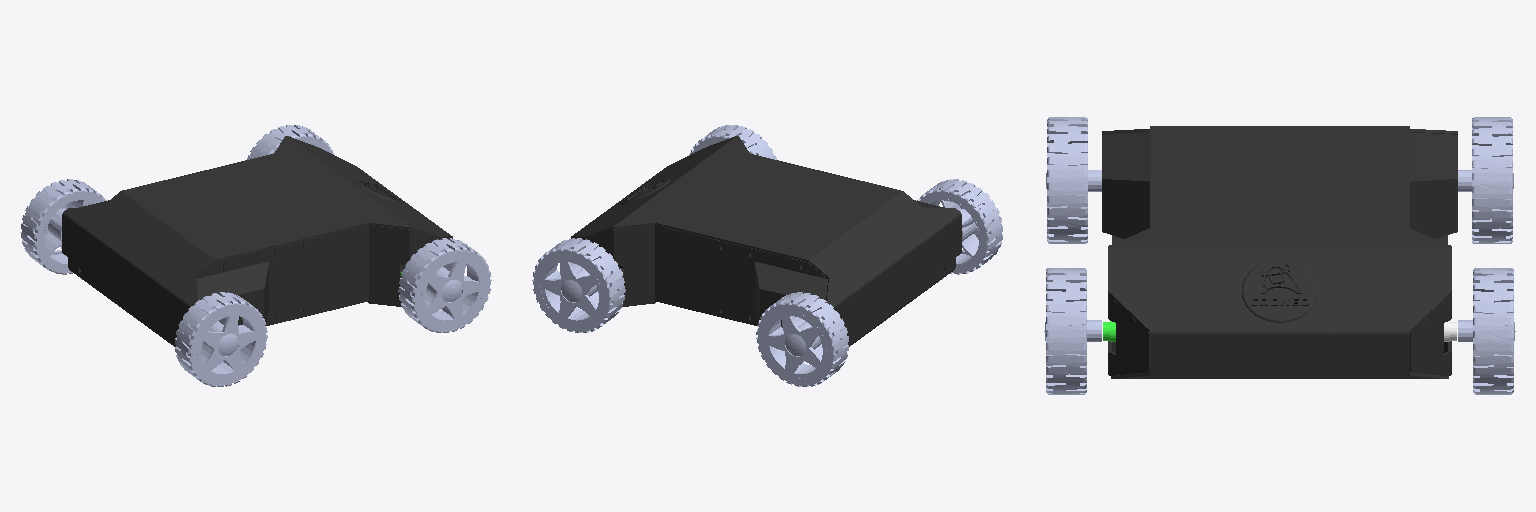
URDF robot description (cooneo_mini):
<?xml version="1.0" encoding="utf-8"?>
<!-- This URDF was automatically created by SolidWorks to URDF Exporter! Originally created by [author] ([email redacted]) 
     Commit Version: 1.5.1-0-g916b5db  Build Version: 1.5.7152.31018
     For more information, please see http://wiki.ros.org/sw_urdf_exporter -->
<robot
  name="cooneo_mini">
  <link
    name="base_link">
    <inertial>
      <origin
        xyz="0.011165 -1.5969E-05 0.059651"
        rpy="0 0 0" />
      <mass
        value="1.9356" />
      <inertia
        ixx="0.012455"
        ixy="-3.2416E-08"
        ixz="0.0014124"
        iyy="0.020757"
        iyz="2.4025E-07"
        izz="0.029211" />
    </inertial>
    <visual>
      <origin
        xyz="0 0 0"
        rpy="0 0 0" />
      <geometry>
        <mesh
          filename="package://cooneo_mini/meshes/base_link.STL" />
      </geometry>
      <material
        name="">
        <color
          rgba="0.25098 0.25098 0.25098 1" />
      </material>
    </visual>
    <collision>
      <origin
        xyz="0 0 0"
        rpy="0 0 0" />
      <geometry>
        <mesh
          filename="package://cooneo_mini/meshes/base_link.STL" />
      </geometry>
    </collision>
  </link>
  <link
    name="rear_wheel_link">
    <inertial>
      <origin
        xyz="-8.88178419700125E-16 0 -0.00112500000000004"
        rpy="0 0 0" />
      <mass
        value="5.65486677646169E-05" />
      <inertia
        ixx="1.32005796313028E-10"
        ixy="-1.93870456067114E-27"
        ixz="2.07308223726184E-26"
        iyy="1.32005796313028E-10"
        iyz="-7.55046416366814E-25"
        izz="2.03575203952622E-10" />
    </inertial>
    <visual>
      <origin
        xyz="0 0 0"
        rpy="0 0 0" />
      <geometry>
        <mesh
          filename="package://cooneo_mini/meshes/rear_wheel_link.STL" />
      </geometry>
      <material
        name="">
        <color
          rgba="0.274509803921569 1 0.247058823529412 1" />
      </material>
    </visual>
    <collision>
      <origin
        xyz="0 0 0"
        rpy="0 0 0" />
      <geometry>
        <mesh
          filename="package://cooneo_mini/meshes/rear_wheel_link.STL" />
      </geometry>
    </collision>
  </link>
  <joint
    name="rear_wheel_joint"
    type="continuous">
    <origin
      xyz="-0.1815 0 0.04"
      rpy="0 0 0" />
    <parent
      link="base_link" />
    <child
      link="rear_wheel_link" />
    <axis
      xyz="0 1 0" />
  </joint>
  <link
    name="left_rear_link">
    <inertial>
      <origin
        xyz="7.85229659072684E-11 -0.019676248885477 -8.4279616618943E-10"
        rpy="0 0 0" />
      <mass
        value="0.295561829050383" />
      <inertia
        ixx="0.000374087423652296"
        ixy="2.1933518923704E-13"
        ixz="-5.50404449693522E-12"
        iyy="0.000661017199375588"
        iyz="-5.10037069618075E-14"
        izz="0.000374087441459992" />
    </inertial>
    <visual>
      <origin
        xyz="0 0 0"
        rpy="0 0 0" />
      <geometry>
        <mesh
          filename="package://cooneo_mini/meshes/left_rear_link.STL" />
      </geometry>
      <material
        name="">
        <color
          rgba="0.792156862745098 0.819607843137255 0.933333333333333 1" />
      </material>
    </visual>
    <collision>
      <origin
        xyz="0 0 0"
        rpy="0 0 0" />
      <geometry>
        <mesh
          filename="package://cooneo_mini/meshes/left_rear_link.STL" />
      </geometry>
    </collision>
  </link>
  <joint
    name="left_rear_joint"
    type="continuous">
    <origin
      xyz="-0.1815 0.22854 0.04"
      rpy="0 0 0" />
    <parent
      link="base_link" />
    <child
      link="left_rear_link" />
    <axis
      xyz="0 1 0" />
    <limit
      lower="-3.14"
      upper="3.14"
      effort="0"
      velocity="0" />
  </joint>
  <link
    name="right_rear_link">
    <inertial>
      <origin
        xyz="7.85229659072684E-11 0.0196762603524332 -8.57704240964097E-10"
        rpy="0 0 0" />
      <mass
        value="0.295561829050388" />
      <inertia
        ixx="0.000374087423652305"
        ixy="-2.1933774738079E-13"
        ixz="5.50404221941799E-12"
        iyy="0.000661017199375599"
        iyz="-5.10080277849736E-14"
        izz="0.000374087441459994" />
    </inertial>
    <visual>
      <origin
        xyz="0 0 0"
        rpy="0 0 0" />
      <geometry>
        <mesh
          filename="package://cooneo_mini/meshes/right_rear_link.STL" />
      </geometry>
      <material
        name="">
        <color
          rgba="0.792156862745098 0.819607843137255 0.933333333333333 1" />
      </material>
    </visual>
    <collision>
      <origin
        xyz="0 0 0"
        rpy="0 0 0" />
      <geometry>
        <mesh
          filename="package://cooneo_mini/meshes/right_rear_link.STL" />
      </geometry>
    </collision>
  </link>
  <joint
    name="right_rear_joint"
    type="continuous">
    <origin
      xyz="-0.1815 -0.22854 0.04"
      rpy="0 0 0" />
    <parent
      link="base_link" />
    <child
      link="right_rear_link" />
    <axis
      xyz="0 1 0" />
    <limit
      lower="-3.14"
      upper="3.14"
      effort="0"
      velocity="0" />
  </joint>
  <link
    name="front_steer_link">
    <inertial>
      <origin
        xyz="-1.77635683940025E-14 -5.46727774164424E-10 -0.00112485700737985"
        rpy="0 0 0" />
      <mass
        value="5.65486677646163E-05" />
      <inertia
        ixx="1.32005796313026E-10"
        ixy="1.16322273640277E-26"
        ixz="1.20446157864484E-28"
        iyy="1.32005796313026E-10"
        iyz="-8.66481261175625E-27"
        izz="2.03575203952619E-10" />
    </inertial>
    <visual>
      <origin
        xyz="0 0 0"
        rpy="0 0 0" />
      <geometry>
        <mesh
          filename="package://cooneo_mini/meshes/front_steer_link.STL" />
      </geometry>
      <material
        name="">
        <color
          rgba="0.274509803921569 1 0.247058823529412 1" />
      </material>
    </visual>
    <collision>
      <origin
        xyz="0 0 0"
        rpy="0 0 0" />
      <geometry>
        <mesh
          filename="package://cooneo_mini/meshes/front_steer_link.STL" />
      </geometry>
    </collision>
  </link>
  <joint
    name="front_steer_joint"
    type="revolute">
    <origin
      xyz="0.17288 0 -0.0037656"
      rpy="0 0 0" />
    <parent
      link="base_link" />
    <child
      link="front_steer_link" />
    <axis
      xyz="0 0 1" />
    <limit
      lower="0"
      upper="0"
      effort="0"
      velocity="0" />
  </joint>
  <link
    name="front_steer_right_link">
    <inertial>
      <origin
        xyz="-0.00287984917574224 -0.00386608727320614 -3.21341868447789E-07"
        rpy="0 0 0" />
      <mass
        value="0.00404228912885315" />
      <inertia
        ixx="3.86012893948635E-07"
        ixy="1.06107136042316E-07"
        ixz="3.7998167490122E-12"
        iyy="5.70282019991062E-07"
        iyz="-5.11429251072708E-13"
        izz="5.85222511682941E-07" />
    </inertial>
    <visual>
      <origin
        xyz="0 0 0"
        rpy="0 0 0" />
      <geometry>
        <mesh
          filename="package://cooneo_mini/meshes/front_steer_right_link.STL" />
      </geometry>
      <material
        name="">
        <color
          rgba="0.309803921568627 1 0.333333333333333 1" />
      </material>
    </visual>
    <collision>
      <origin
        xyz="0 0 0"
        rpy="0 0 0" />
      <geometry>
        <mesh
          filename="package://cooneo_mini/meshes/front_steer_right_link.STL" />
      </geometry>
    </collision>
  </link>
  <joint
    name="front_steer_right_joint"
    type="revolute">
    <origin
      xyz="0.16696 -0.15584 0.039625"
      rpy="0 0 0" />
    <parent
      link="base_link" />
    <child
      link="front_steer_right_link" />
    <axis
      xyz="0 0 -1" />
    <limit
      lower="0"
      upper="0"
      effort="0"
      velocity="0" />
  </joint>
  <link
    name="front_right_wheel_link">
    <inertial>
      <origin
        xyz="9.45795743945155E-08 -0.000295273236284865 1.87538969909085E-08"
        rpy="0 0 0" />
      <mass
        value="0.296315811300357" />
      <inertia
        ixx="0.000374692013709373"
        ixy="-9.17172260378054E-08"
        ixz="-2.43188315834101E-12"
        iyy="0.000661029987747127"
        iyz="1.97367409117038E-13"
        izz="0.000374691963930339" />
    </inertial>
    <visual>
      <origin
        xyz="0 0 0"
        rpy="0 0 0" />
      <geometry>
        <mesh
          filename="package://cooneo_mini/meshes/front_right_wheel_link.STL" />
      </geometry>
      <material
        name="">
        <color
          rgba="0.792156862745098 0.819607843137255 0.933333333333333 1" />
      </material>
    </visual>
    <collision>
      <origin
        xyz="0 0 0"
        rpy="0 0 0" />
      <geometry>
        <mesh
          filename="package://cooneo_mini/meshes/front_right_wheel_link.STL" />
      </geometry>
    </collision>
  </link>
  <joint
    name="front_right_wheel_joint"
    type="continuous">
    <origin
      xyz="0.000561692366284561 -0.0539588411844538 0"
      rpy="0 0 0" />
    <parent
      link="front_steer_right_link" />
    <child
      link="front_right_wheel_link" />
    <axis
      xyz="-0.000320310780620463 0.999999948700501 0" />
  </joint>
  <link
    name="front_steer_left_link">
    <inertial>
      <origin
        xyz="0 0 0"
        rpy="0 0 0" />
      <mass
        value="0" />
      <inertia
        ixx="0"
        ixy="0"
        ixz="0"
        iyy="0"
        iyz="0"
        izz="0" />
    </inertial>
    <visual>
      <origin
        xyz="0 0 0"
        rpy="0 0 0" />
      <geometry>
        <mesh
          filename="package://cooneo_mini/meshes/front_steer_left_link.STL" />
      </geometry>
      <material
        name="">
        <color
          rgba="1 1 1 1" />
      </material>
    </visual>
    <collision>
      <origin
        xyz="0 0 0"
        rpy="0 0 0" />
      <geometry>
        <mesh
          filename="package://cooneo_mini/meshes/front_steer_left_link.STL" />
      </geometry>
    </collision>
  </link>
  <joint
    name="front_steer_left_joint"
    type="revolute">
    <origin
      xyz="0.166955591258992 0.155840982540987 0.039624698003177"
      rpy="0 0 0" />
    <parent
      link="base_link" />
    <child
      link="front_steer_left_link" />
    <axis
      xyz="0 0 -1" />
    <limit
      lower="0"
      upper="0"
      effort="0"
      velocity="0" />
  </joint>
  <link
    name="front_left_wheel_link">
    <inertial>
      <origin
        xyz="-3.99413835339146E-11 0.000295274254397127 -5.88863402484208E-11"
        rpy="0 0 0" />
      <mass
        value="0.296315811293939" />
      <inertia
        ixx="0.000374691978511198"
        ixy="-1.84494369513925E-13"
        ixz="-9.50757166279945E-12"
        iyy="0.000661030017093965"
        iyz="-1.17866539930504E-13"
        izz="0.000374691969713973" />
    </inertial>
    <visual>
      <origin
        xyz="0 0 0"
        rpy="0 0 0" />
      <geometry>
        <mesh
          filename="package://cooneo_mini/meshes/front_left_wheel_link.STL" />
      </geometry>
      <material
        name="">
        <color
          rgba="0.792156862745098 0.819607843137255 0.933333333333333 1" />
      </material>
    </visual>
    <collision>
      <origin
        xyz="0 0 0"
        rpy="0 0 0" />
      <geometry>
        <mesh
          filename="package://cooneo_mini/meshes/front_left_wheel_link.STL" />
      </geometry>
    </collision>
  </link>
  <joint
    name="front_left_wheel_joint"
    type="continuous">
    <origin
      xyz="0.000544408740911884 0.0539590174586466 0"
      rpy="0 0 0" />
    <parent
      link="front_steer_left_link" />
    <child
      link="front_left_wheel_link" />
    <axis
      xyz="0 -1 0" />
  </joint>
</robot>

--- What the picture shows (computed from the rendered views, not written in the file) ---
The picture shows the robot from 3 angles, left to right: view 1: azimuth 30°, elevation 25°; view 2: azimuth 150°, elevation 25°; view 3: azimuth 270°, elevation 25°; orthographic projection.
Robot: cooneo_mini — 9 links, 8 joints (3 revolute, 5 continuous); root link base_link; default pose: every joint at zero.
Visible links, largest first — view 1: base_link, front_right_wheel_link, right_rear_link, left_rear_link, front_left_wheel_link; view 2: base_link, left_rear_link, front_left_wheel_link, right_rear_link, front_right_wheel_link; view 3: base_link, front_right_wheel_link, front_left_wheel_link, left_rear_link, right_rear_link.
Link boxes in pixels (x1,y1,x2,y2): base_link: (62, 136, 452, 346); front_right_wheel_link: (398, 238, 491, 332); right_rear_link: (175, 292, 267, 386); left_rear_link: (20, 179, 106, 274); front_left_wheel_link: (247, 125, 333, 159); base_link: (571, 136, 961, 346); left_rear_link: (756, 292, 848, 386); front_left_wheel_link: (532, 238, 625, 332); right_rear_link: (917, 179, 1002, 274); front_right_wheel_link: (690, 125, 776, 159); base_link: (1102, 126, 1457, 378); front_right_wheel_link: (1044, 268, 1101, 394); front_left_wheel_link: (1458, 268, 1515, 394); left_rear_link: (1458, 117, 1513, 243); right_rear_link: (1046, 117, 1101, 243).
Bounding box of the posed robot: 0.474 × 0.4627 × 0.1404 m (x, y, z).
Meshes: 9 distinct files referenced, 9 mesh visuals loaded (9 binary STL).